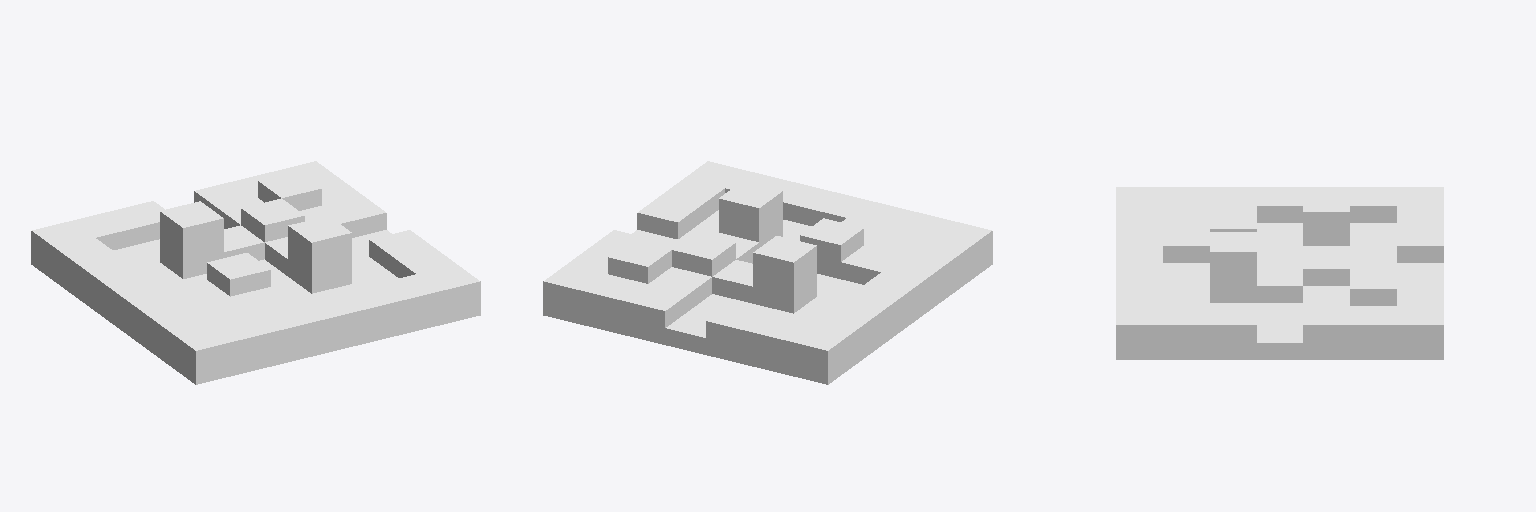
The model's file is CornerOne.obj.
The picture shows the model from 3 angles: view 1: azimuth 30°, elevation 25°; view 2: azimuth 150°, elevation 25°; view 3: azimuth 270°, elevation 25°; orthographic projection.
Visible parts, largest first — view 1: object 1; view 2: object 1; view 3: object 1.
Boxes of the visible parts, x1=… form: object 1: x1=31, y1=161, x2=480, y2=384; object 1: x1=543, y1=161, x2=992, y2=384; object 1: x1=1116, y1=187, x2=1443, y2=359.
Size of the model in its own units: 7 by 1.6 by 7.